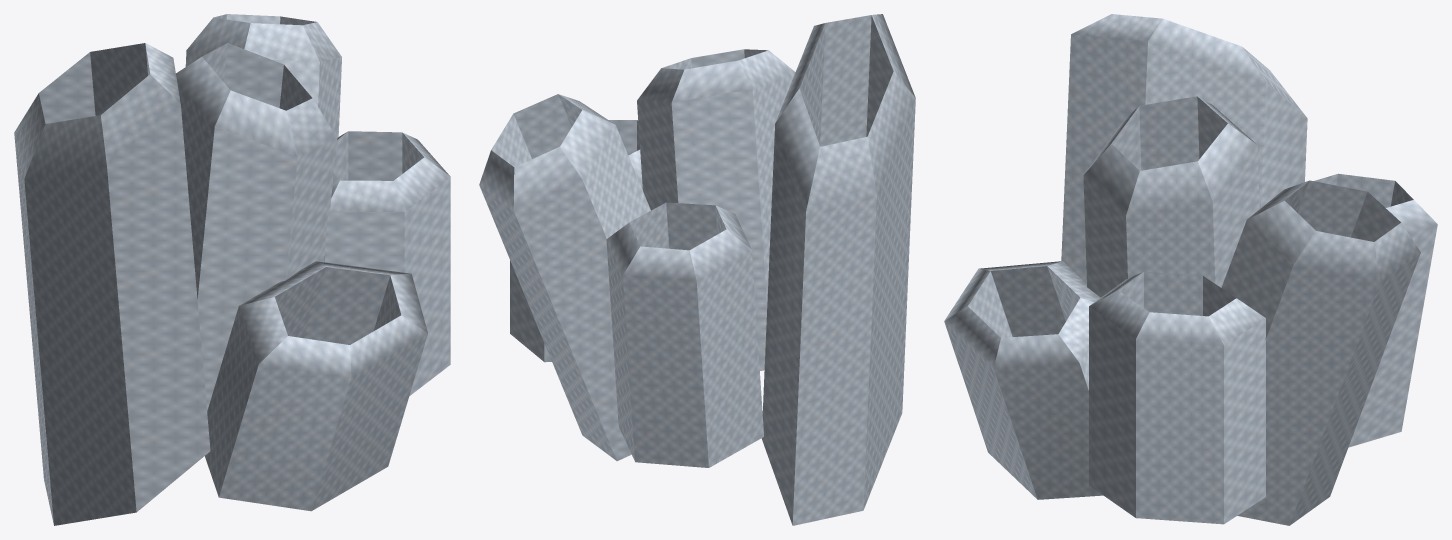
File: Sponge.fbx
The picture shows the model from 3 angles, left to right: view 1: azimuth 30°, elevation 25°; view 2: azimuth 150°, elevation 25°; view 3: azimuth 270°, elevation 25°; orthographic projection. The views are drawn at different scales.
Visible parts, largest first — view 1: pCylinder2; view 2: pCylinder2; view 3: pCylinder2.
Boxes of the visible parts, box(x1,y1,x2,y2) form: pCylinder2: box(14, 14, 450, 525); pCylinder2: box(479, 14, 915, 525); pCylinder2: box(944, 14, 1437, 525).
Size of the model in its own units: 0.696 by 0.8228 by 0.7959.
1 material, 1 textured.
